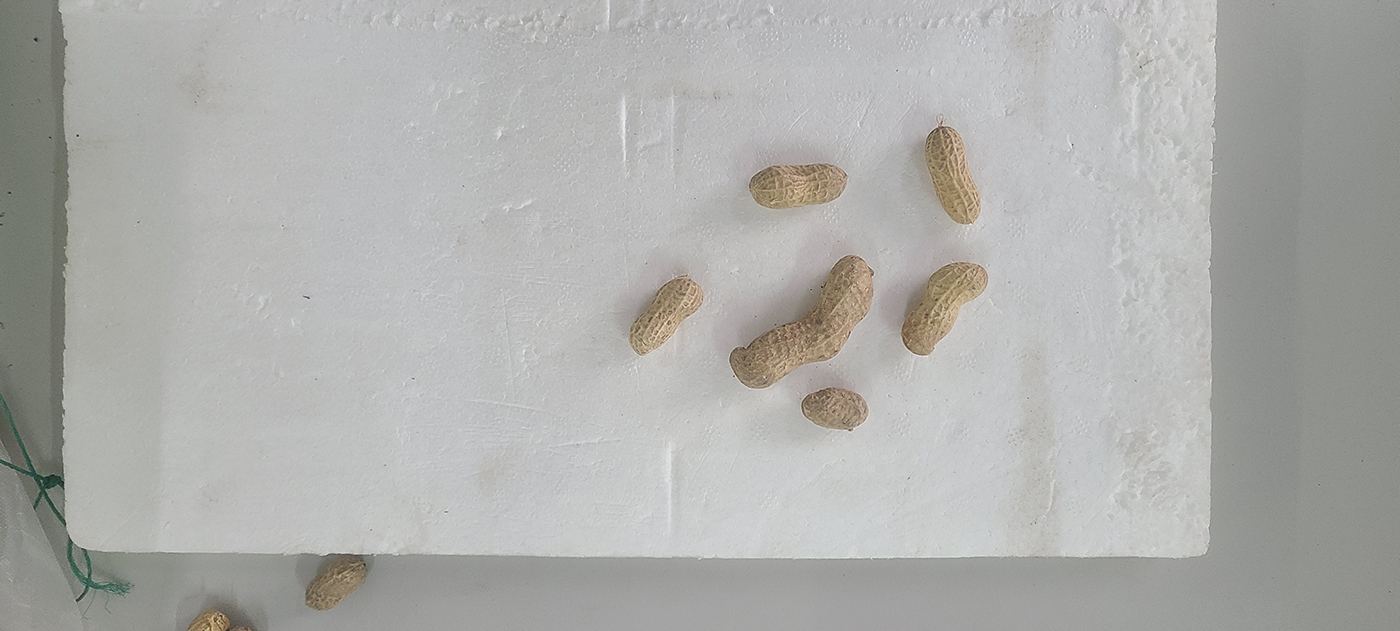h: (726, 255, 875, 388), (901, 262, 989, 356), (925, 127, 982, 225), (631, 278, 704, 353), (749, 164, 849, 207), (304, 554, 369, 610), (186, 610, 231, 631)
l: (801, 388, 870, 432)
